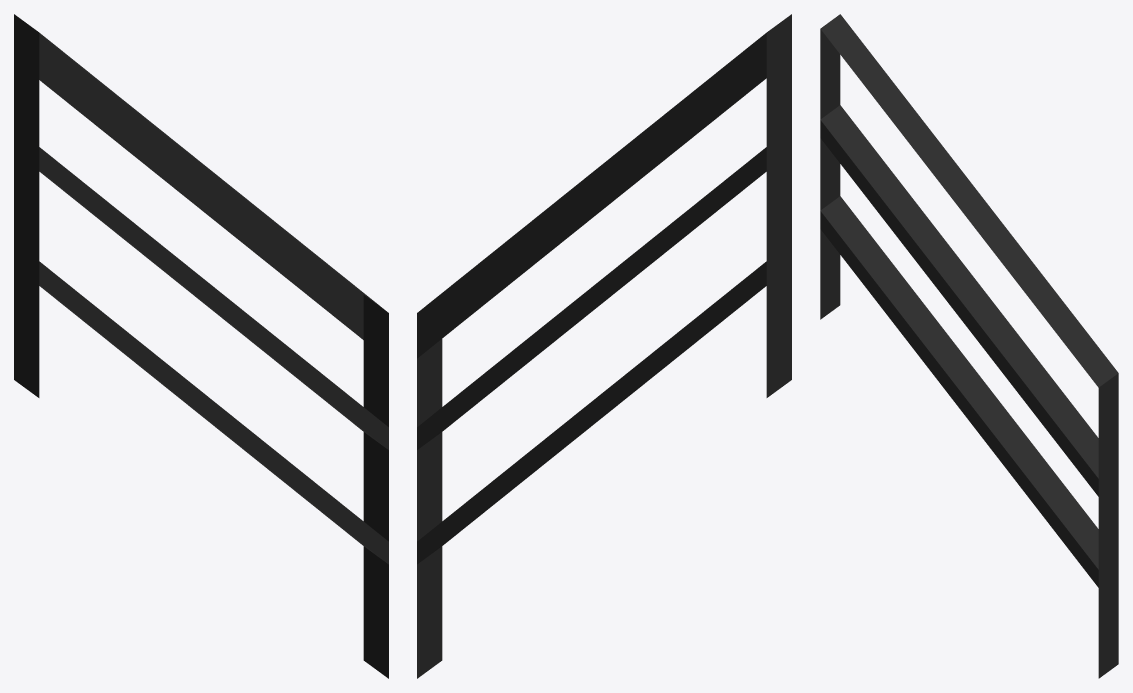
Rendered from baranda_2_bajando(1).gltf.
3 renders of one model, left to right at view 1: azimuth 30°, elevation 25°; view 2: azimuth 150°, elevation 25°; view 3: azimuth 330°, elevation 25°, orthographic. The views are drawn at different scales.
Visible parts, largest first — view 1: glass_panel, cuboid (×2); view 2: glass_panel, cuboid (×2); view 3: cuboid (×2), glass_panel.
Boxes of the visible parts, x1,y1,x2,y2 form: glass_panel: [14, 14, 388, 678]; cuboid (×2): [14, 129, 388, 564]; glass_panel: [417, 14, 791, 678]; cuboid (×2): [417, 130, 791, 564]; cuboid (×2): [820, 105, 1118, 587]; glass_panel: [820, 14, 1118, 678].
Size of the model in its own units: 1 by 2 by 0.125.
2 materials, 2 textured.
